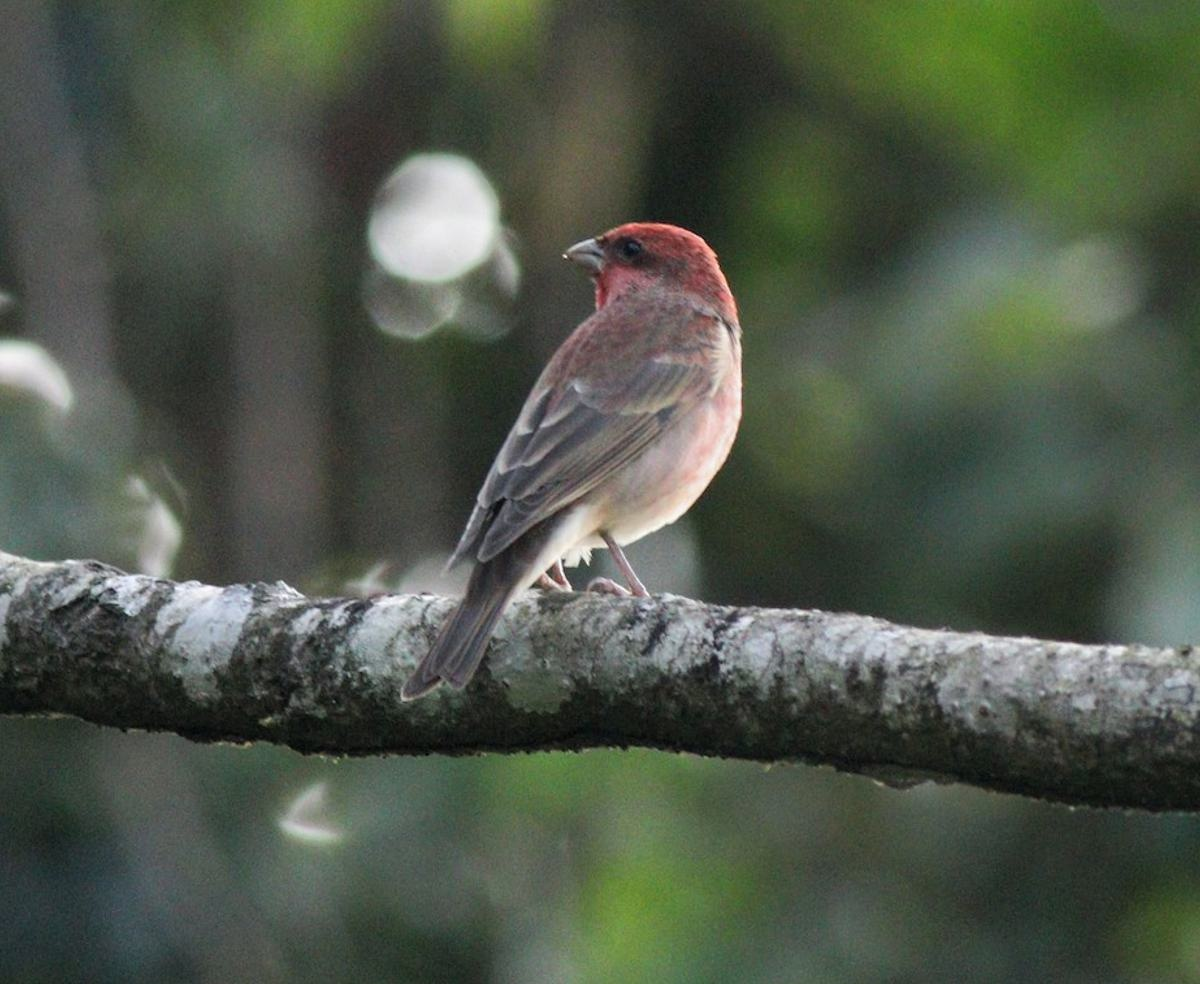rosefinch: (395, 166, 761, 715)
